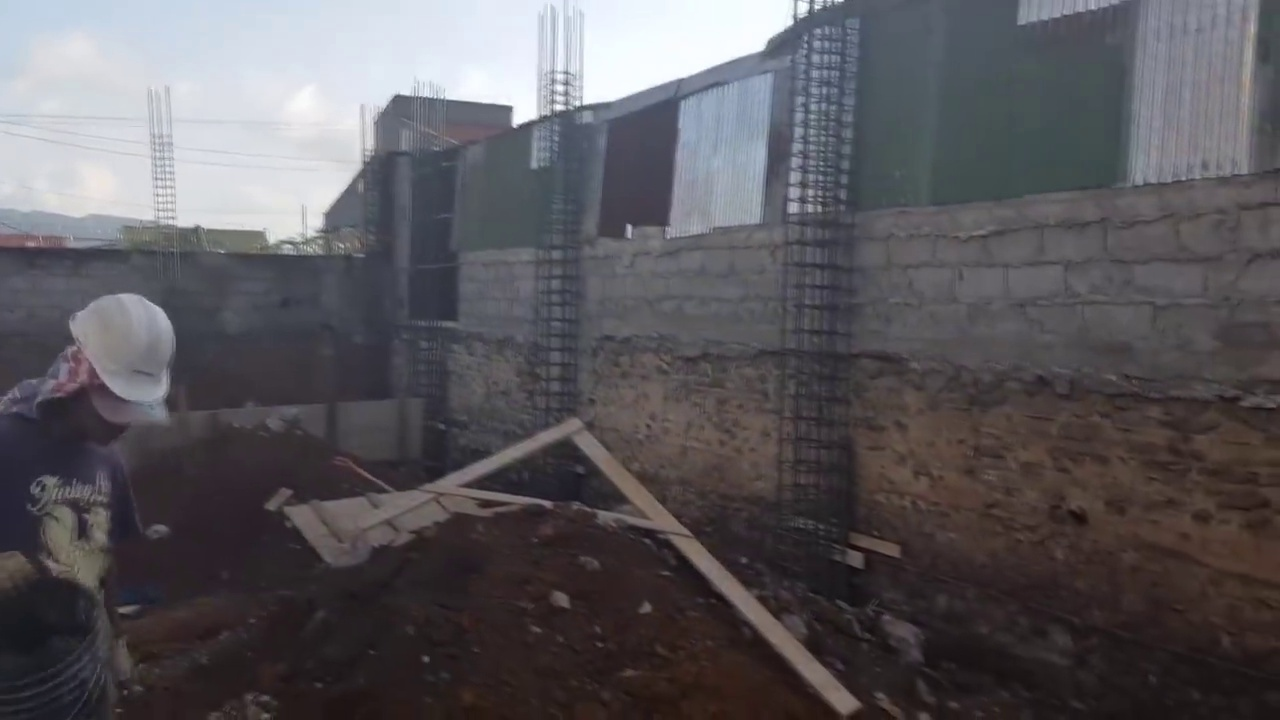helmet: (58, 299, 171, 403)
helmet-on: (15, 298, 181, 448)
person: (0, 280, 183, 705)
